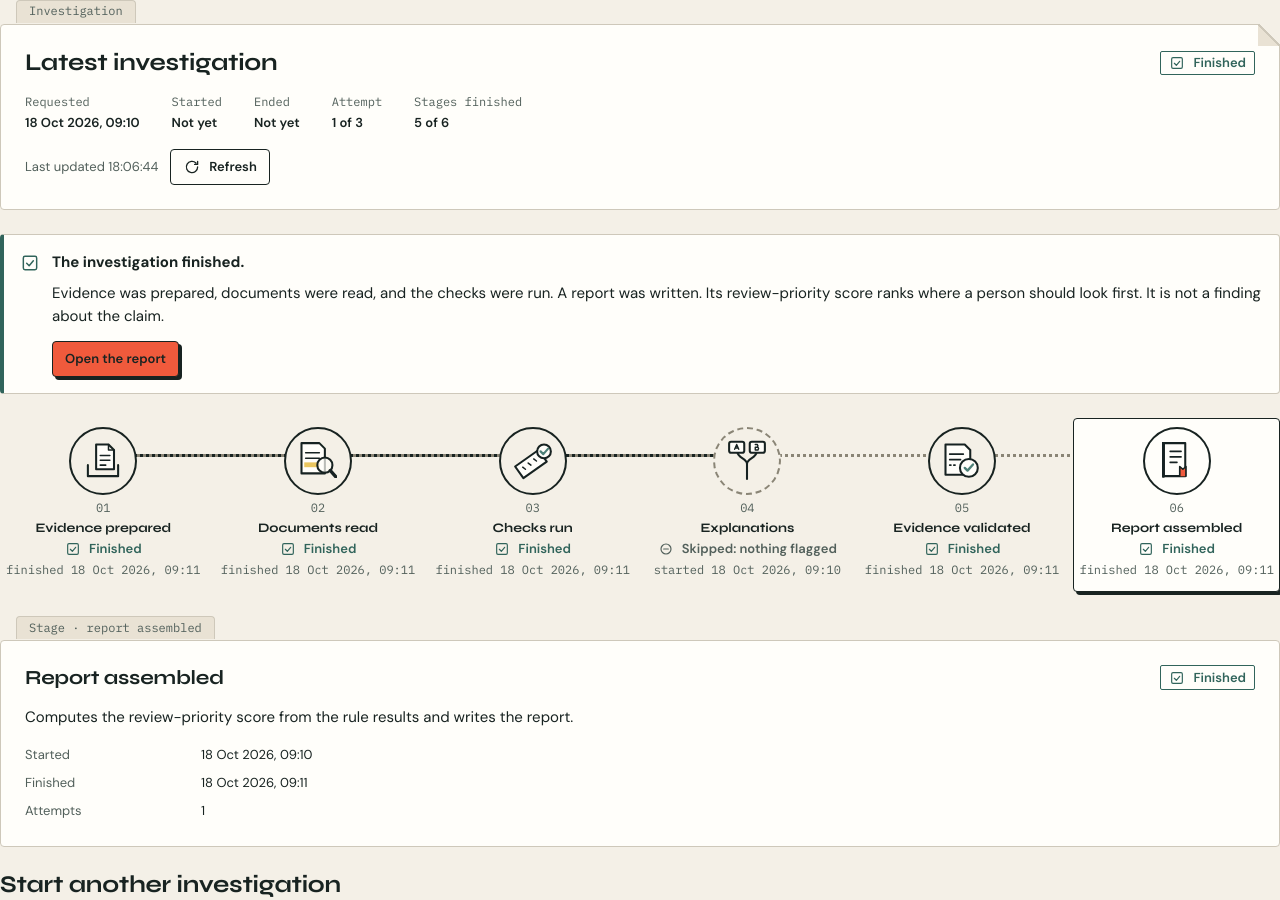
the route › says the model was deliberately not asked when nothing was flagged, instead of showing a stage that found nothing
The image size is (1280, 900).
expect the element named "Investigation route" is shown: met, box [0,418,1279,592]
Click the button "Explanations": {"x": 747, "y": 505} [644,418,851,592]
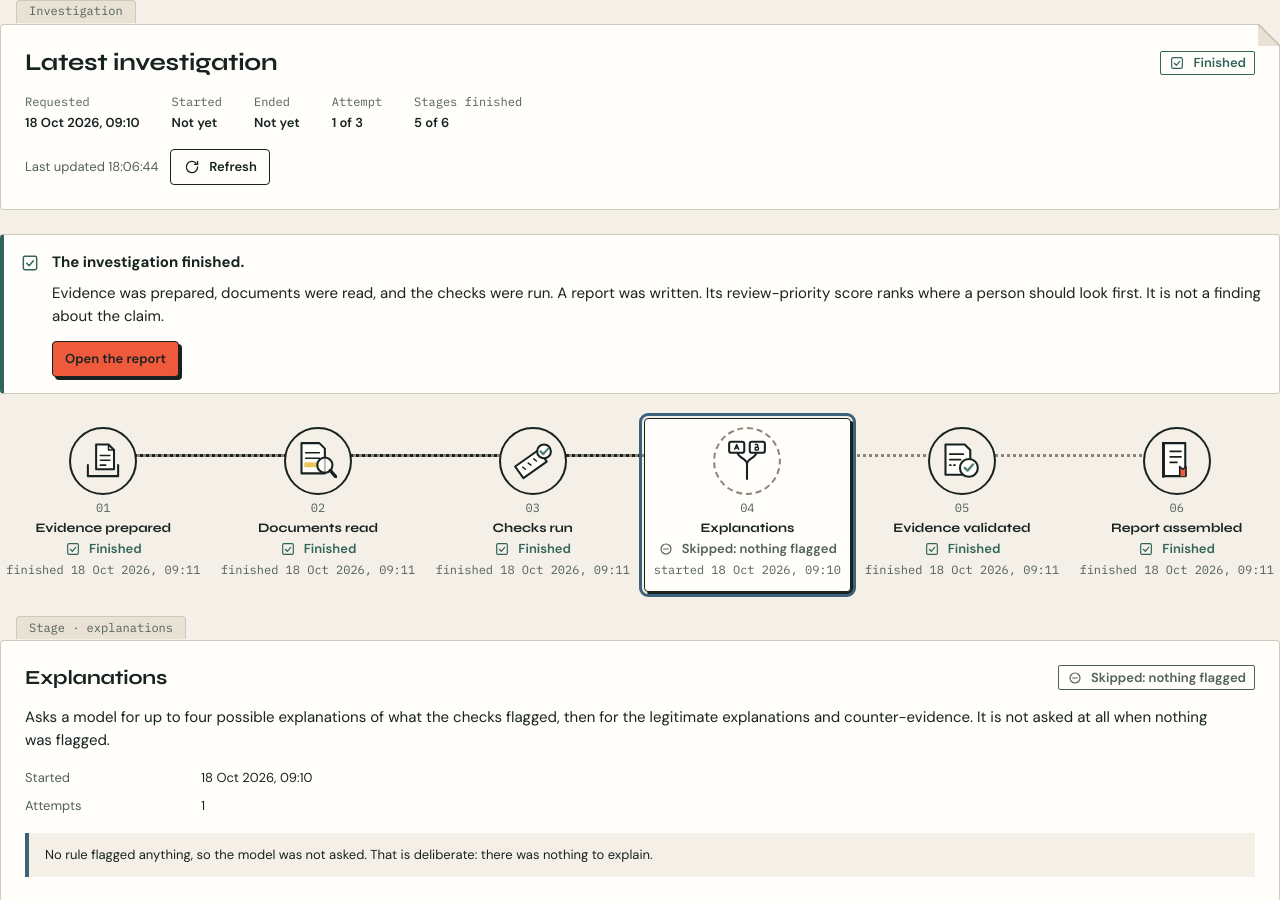
expect the text "No rule flagged anything, so the model was not asked" is shown: met, box [45,846,653,863]
